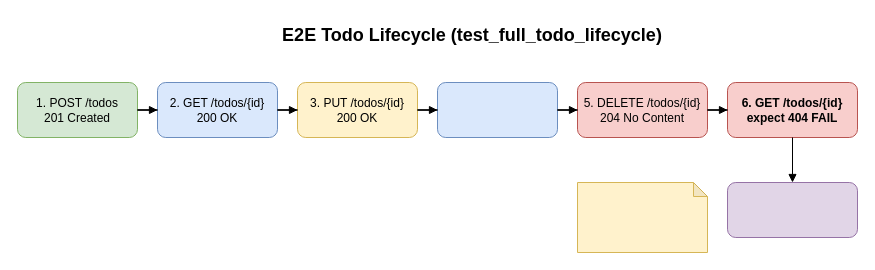
Some shapes in this 875 by 270 pixel diagram are drawn without their labels. The shapes that lost their labels are listed below. From the top down, each one's box as (x1, y1, x2, y2) in pixels, then its label:
(436, 82, 558, 138): 4. GET /todos/{id} verify update
(576, 182, 708, 252): Intentional bug: delete returns 204 but item remains
(726, 182, 858, 238): 7. GET /todos id not in list
